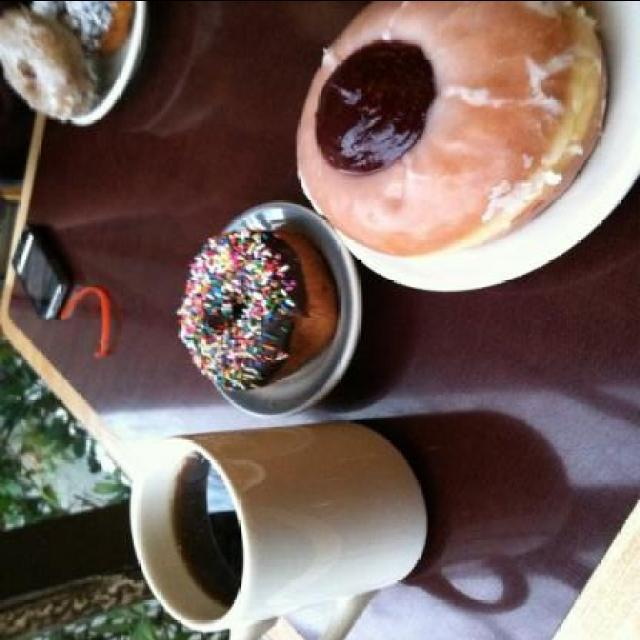Donuts: (154, 0, 638, 402), (2, 2, 140, 134)
